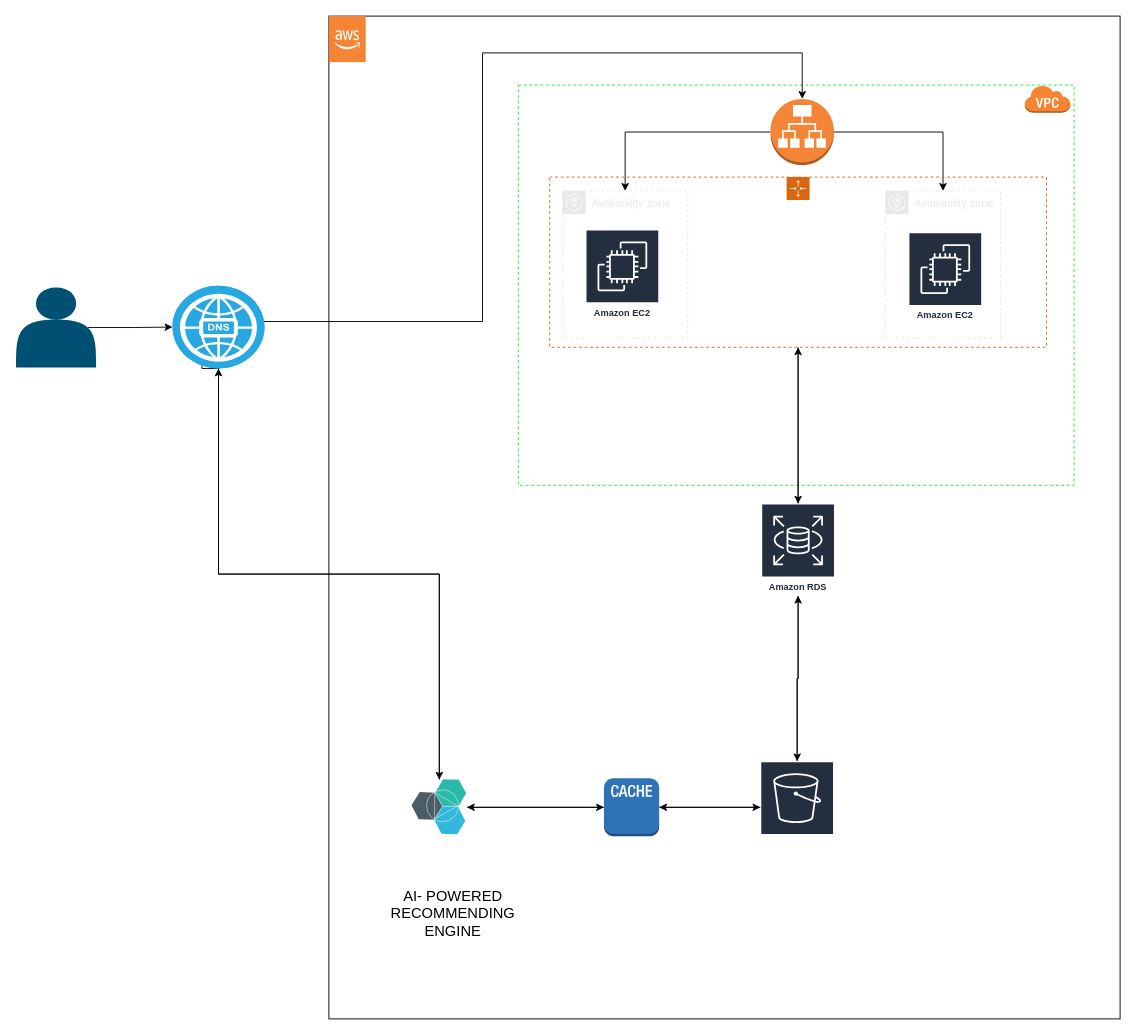
The diagram is 1136 pixels wide and 1035 high, and some of its shapes have lost their labels. Here are the shapes that lost their labels. From the top down, the box of each, then its label:
(549, 176, 1046, 347): Auto Scaling group
(759, 760, 834, 853): Amazon S3
